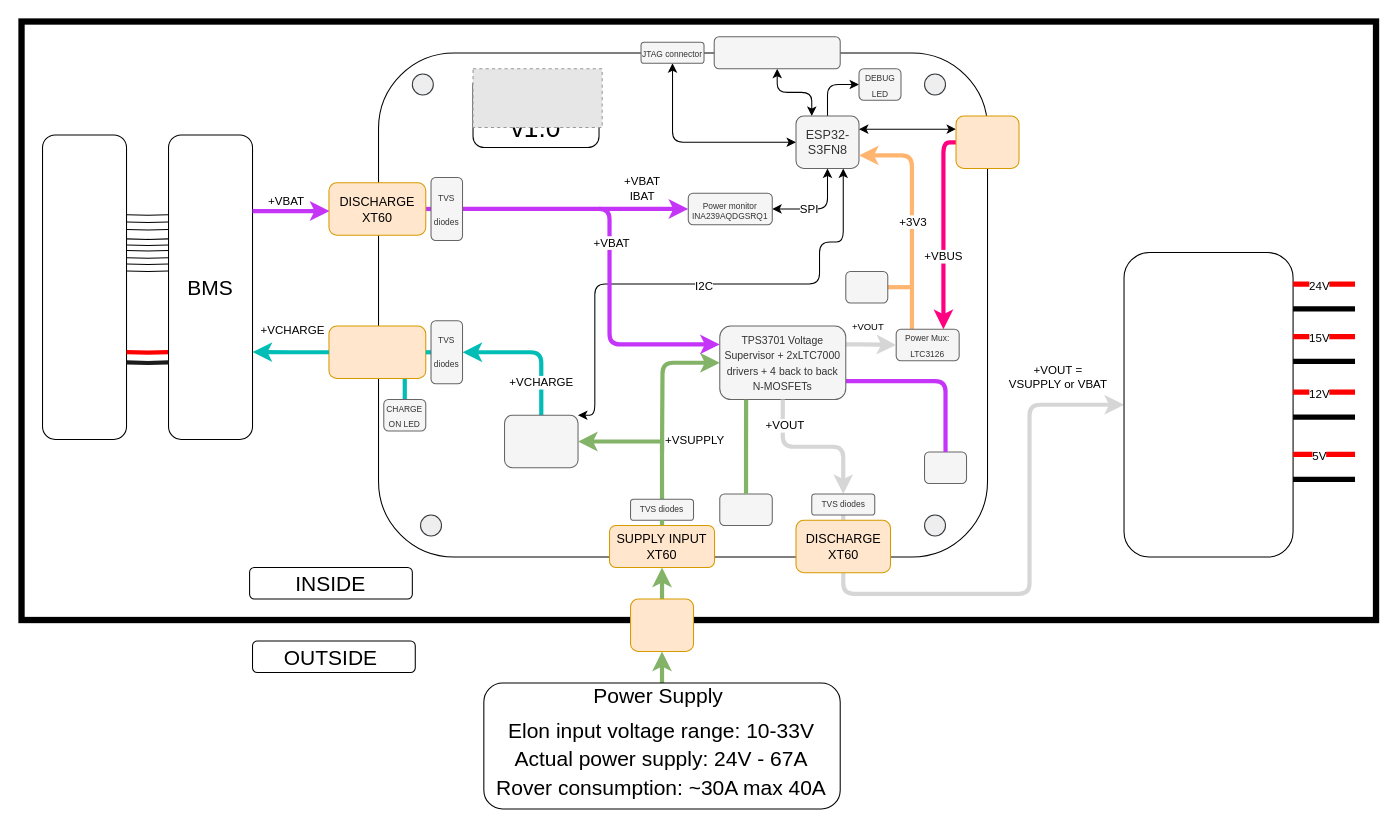
The diagram is 1396 pixels wide and 833 high, and some of its shapes have lost their labels. Grey dashed boxes stand in for pictures. Each missing label, with the centre of its shape:
+VBAT LED: (x=945, y=467)
+VSUPPLY LED: (x=745, y=509)
Battery 7S8P: (x=84, y=286)
Buck Boost LM51772 Charger: (x=540, y=441)
CHARGE XT60: (x=377, y=352)
LEMO: (x=661, y=625)
Power Distribution Pollux III Geode: (x=1208, y=404)
PWR ON +3V3 LED: (x=866, y=286)
Remaining GPIOs: (x=776, y=52)
USB-C: (x=987, y=142)
